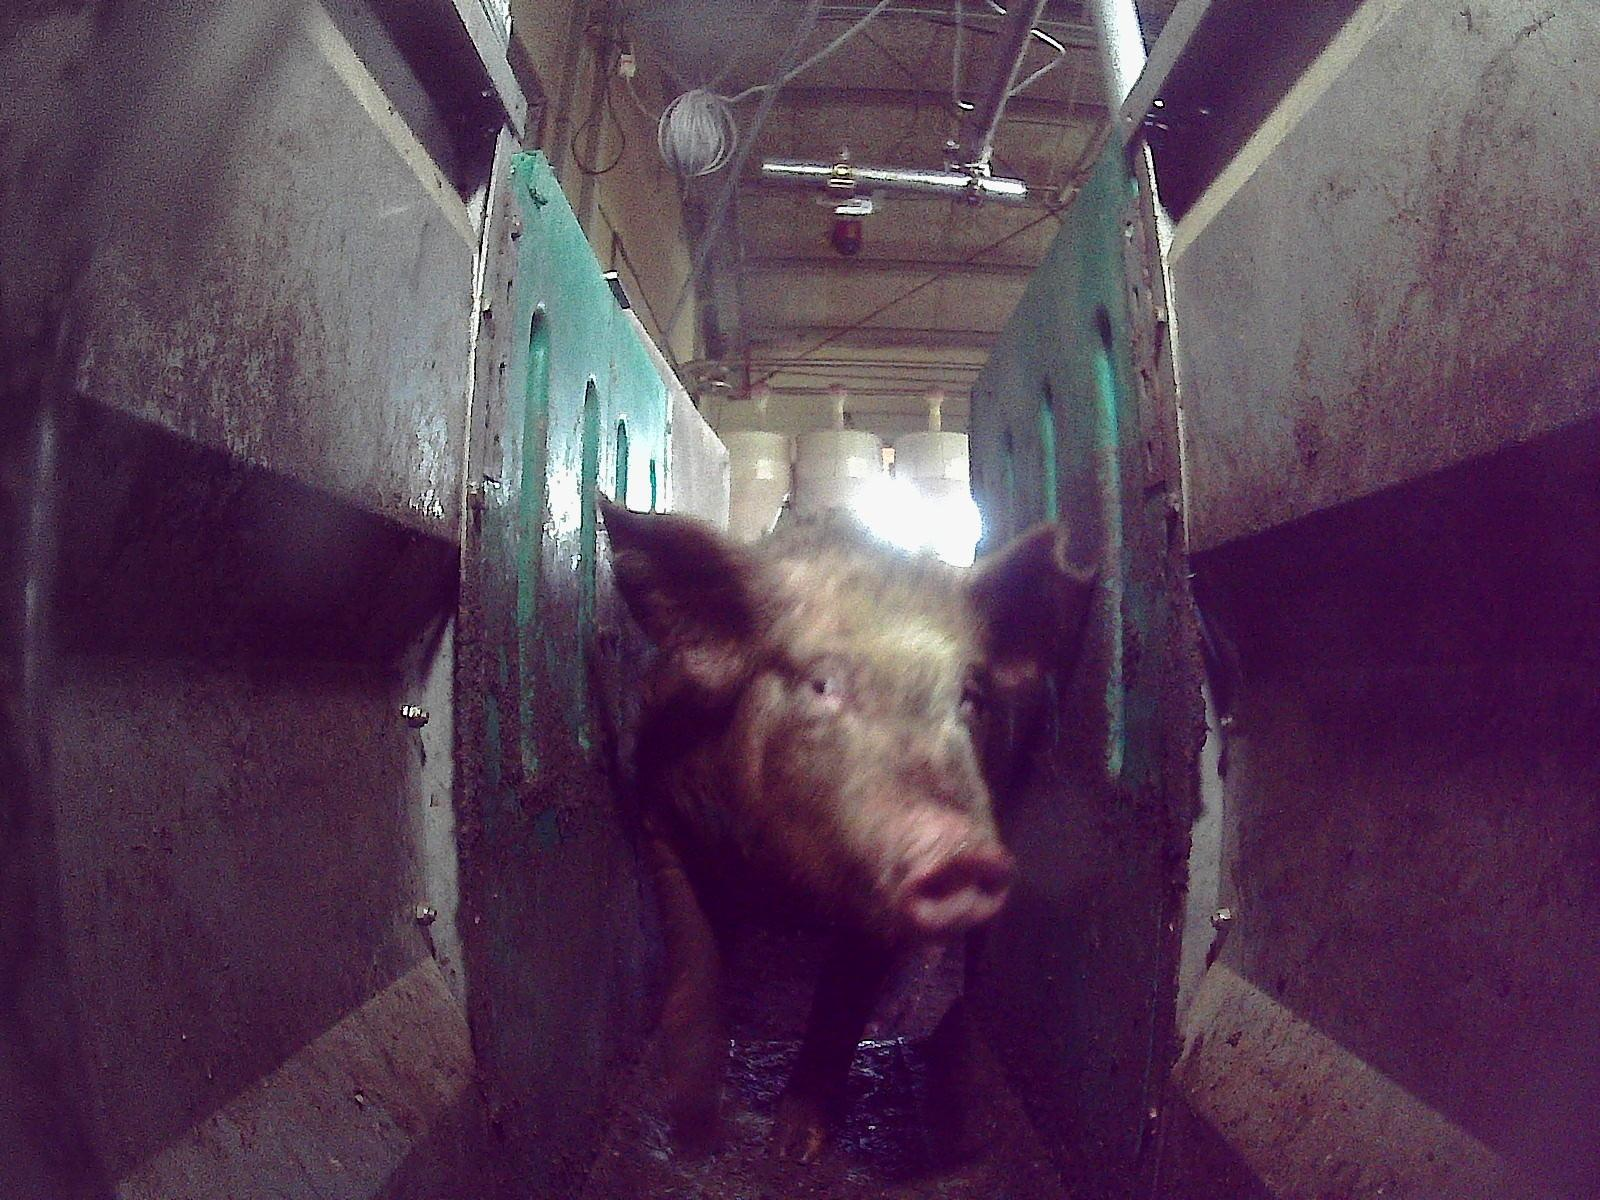Face: (726, 550, 1017, 940)
